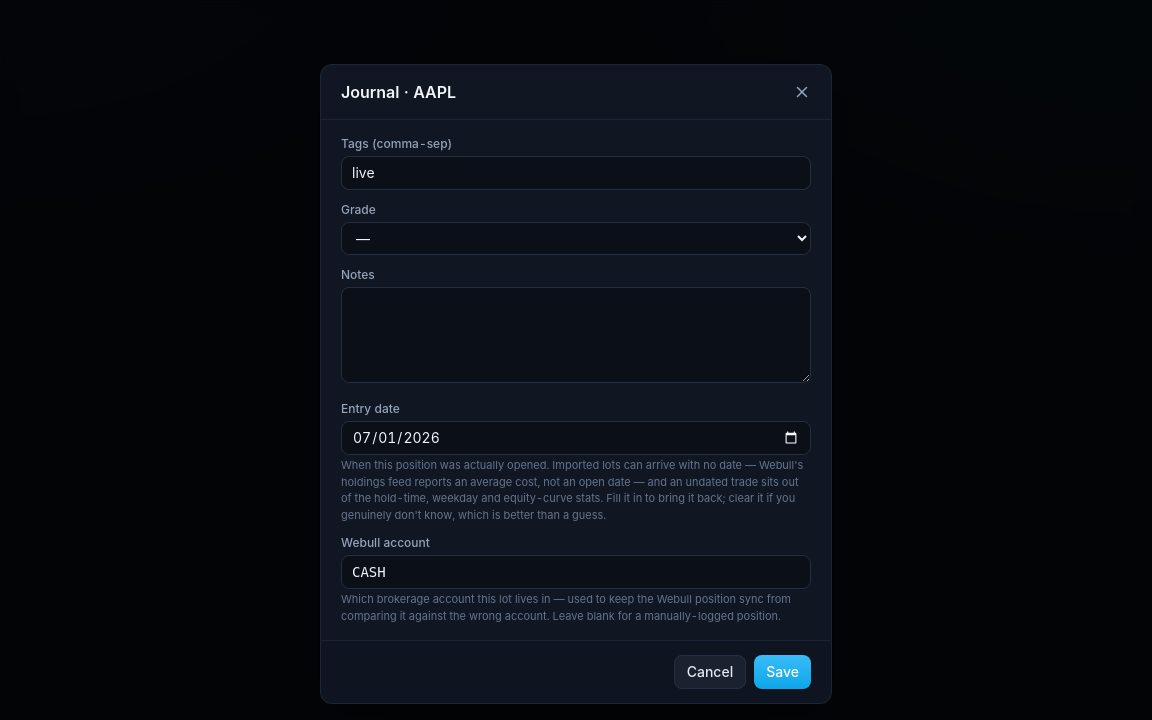
it: JournalEditModal — a failed request has to say so › surfaces a failed save and keeps the dialog open with the edits intact
Replace the text in the field with placeholder "e.g. 1234567_INDIVIDUAL_CASH" with "MARGIN" at (576,572), box x1=341 y1=555 x2=811 y2=589
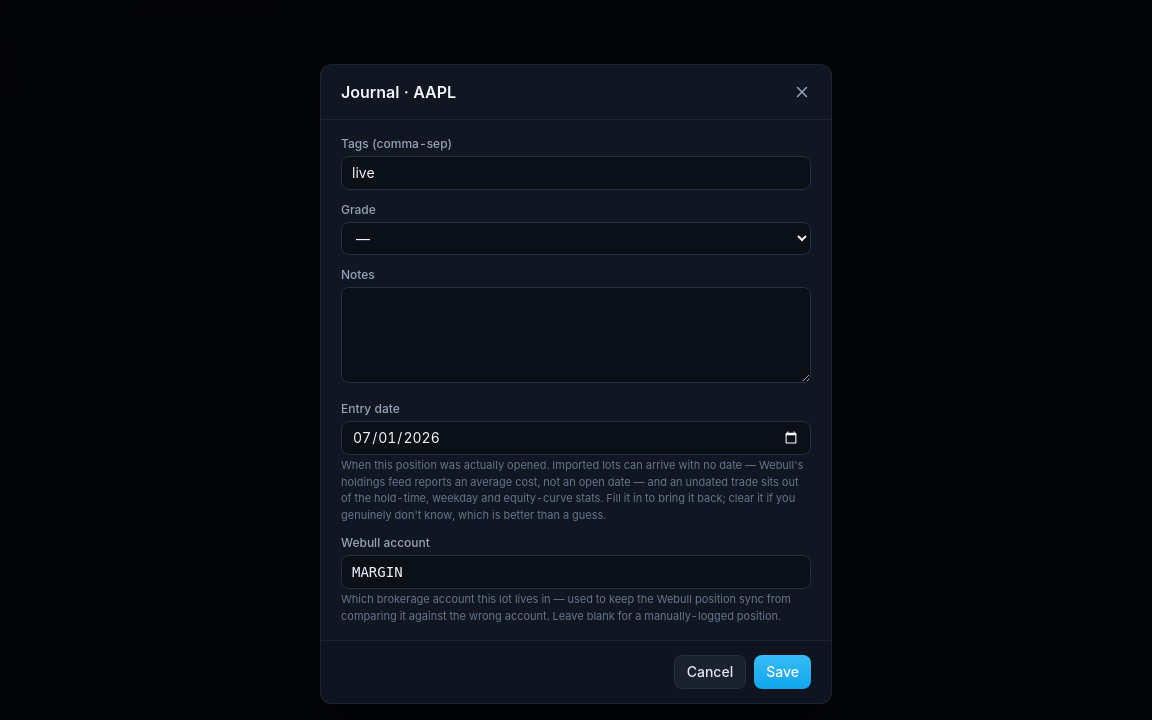
Click the button "Save" at (783,672), box x1=754 y1=655 x2=811 y2=689
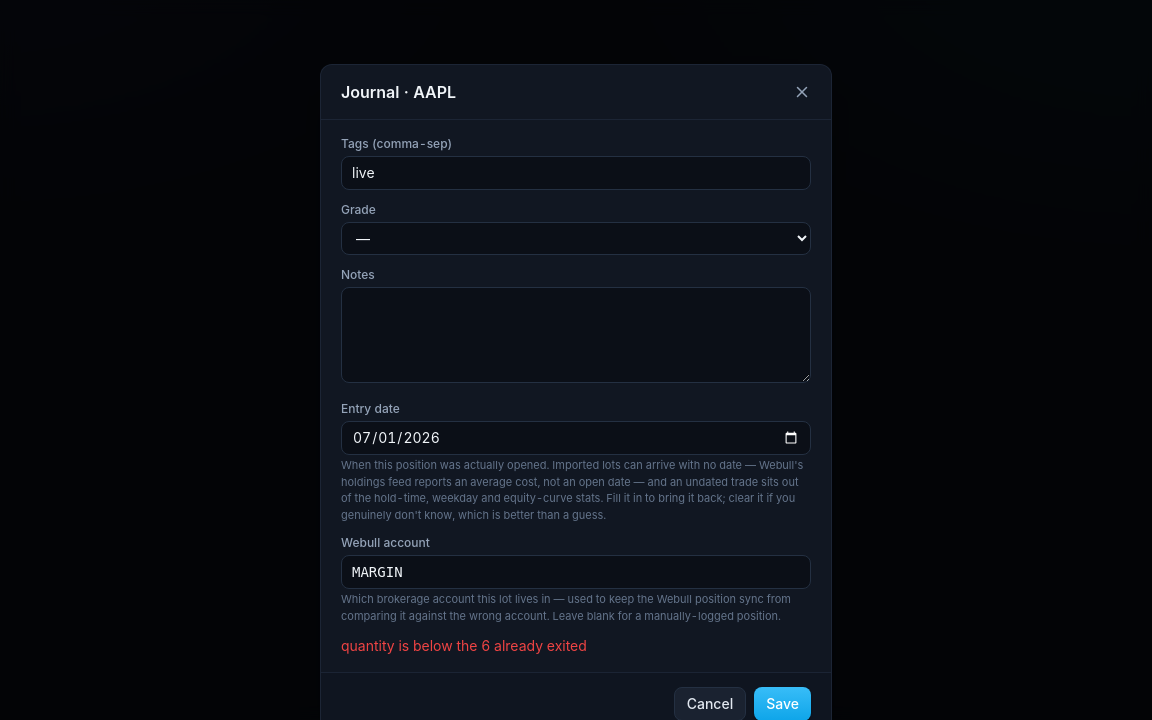
Now the text "quantity is below the 6 already exited" is shown, box x1=341 y1=637 x2=587 y2=654
